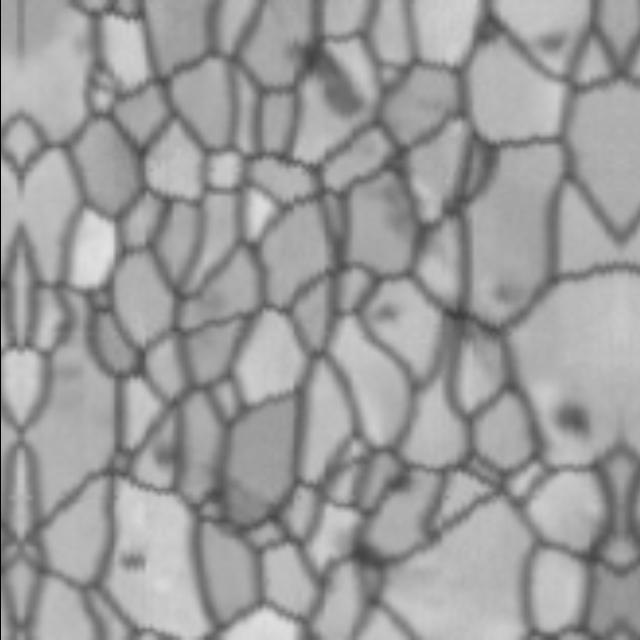good_void: (286, 41, 372, 126), (357, 178, 416, 253), (530, 5, 574, 61), (550, 391, 595, 444), (469, 6, 507, 52), (379, 459, 413, 504), (476, 275, 516, 313), (145, 437, 183, 476), (366, 291, 399, 326), (116, 547, 156, 572)
